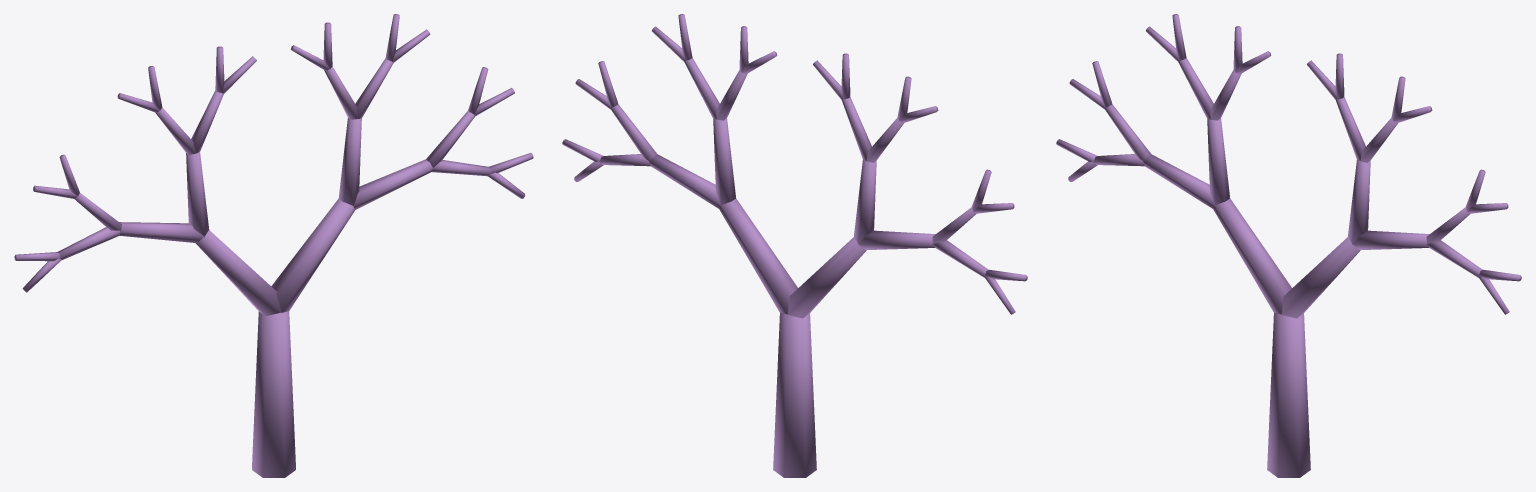
The model's file is sea_fan.glb.
3 views of the same model, side by side, from view 1: azimuth 30°, elevation 25°; view 2: azimuth 150°, elevation 25°; view 3: azimuth 330°, elevation 25° (orthographic).
Visible parts, largest first — view 1: SeaFan_Branches; view 2: SeaFan_Branches; view 3: SeaFan_Branches.
Part boxes in pixels (x1=…): SeaFan_Branches: x1=14, y1=14, x2=533, y2=477; SeaFan_Branches: x1=562, y1=14, x2=1027, y2=477; SeaFan_Branches: x1=1056, y1=14, x2=1521, y2=477.
Size of the model in its own units: 1.08 by 0.9078 by 0.1182.
